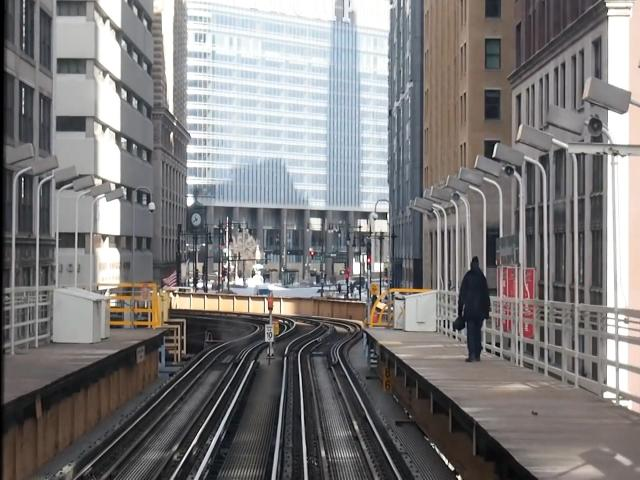signal light: (366, 241, 375, 273)
